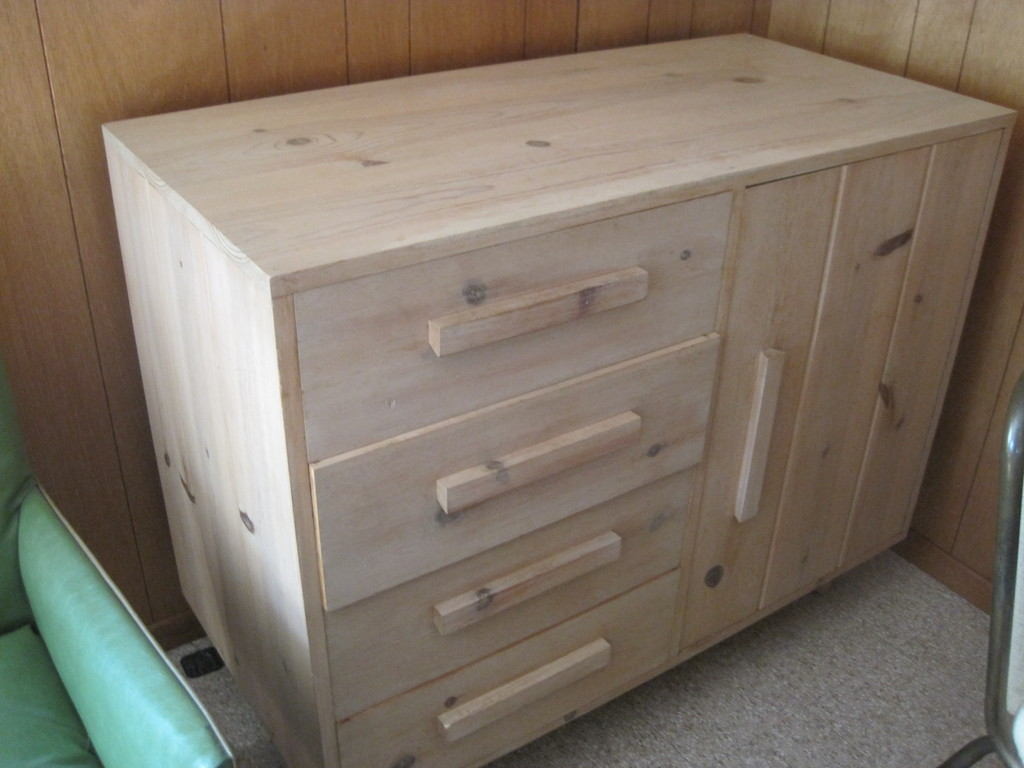cabinet door: (306, 242, 722, 373), (349, 375, 696, 528), (351, 534, 692, 630), (732, 194, 801, 624), (810, 190, 875, 581), (375, 647, 673, 731), (887, 179, 955, 534)
handle: (431, 265, 652, 353), (422, 426, 651, 507), (439, 549, 626, 610), (445, 676, 600, 721), (755, 340, 782, 532)
